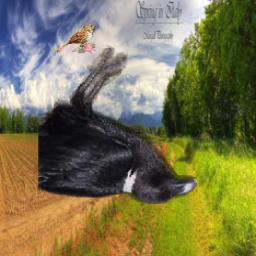Crow: (39, 46, 198, 205)
Sparrow: (54, 23, 95, 53)
